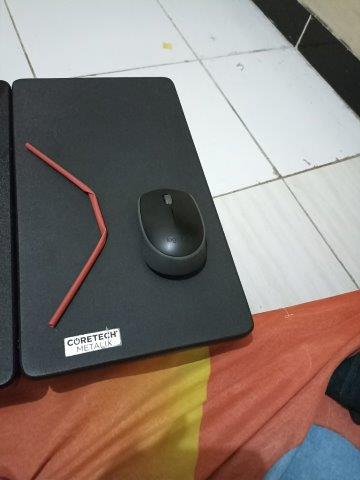sedotan: (25, 143, 107, 327)
